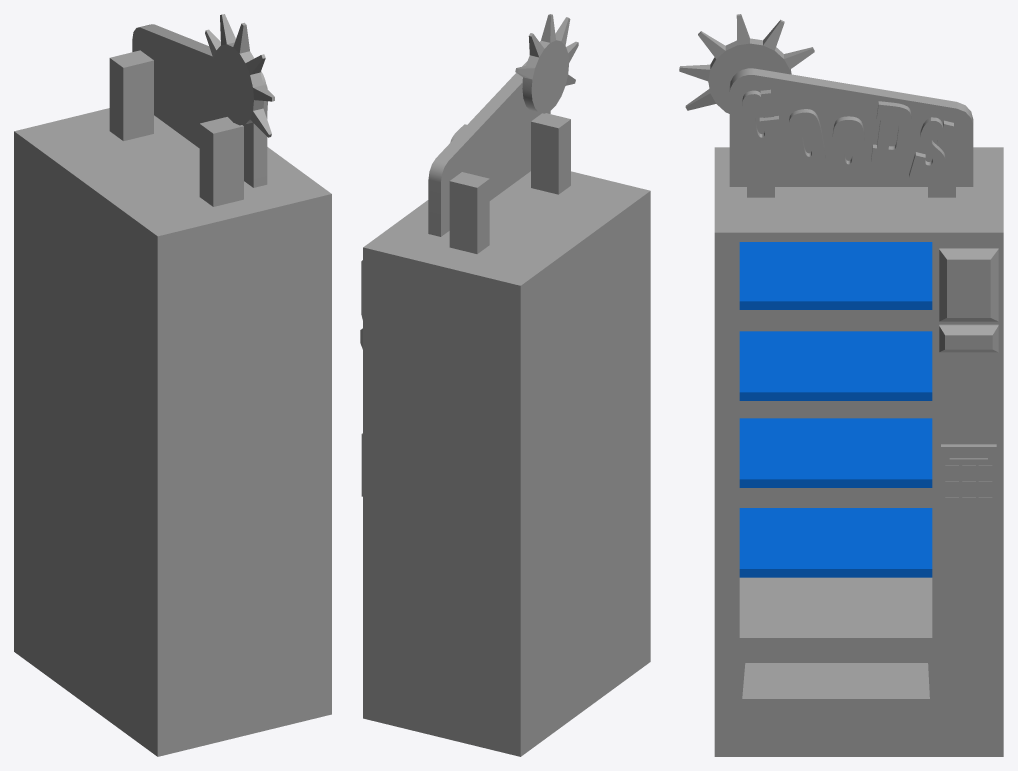
The model's file is goods.fbx.
3 renders of one model, left to right at view 1: azimuth 30°, elevation 25°; view 2: azimuth 150°, elevation 25°; view 3: azimuth 270°, elevation 25°, orthographic. The views are drawn at different scales.
Parts seen in each view (by area): view 1: polySurface31; view 2: polySurface31; view 3: polySurface31.
Part boxes in pixels (x1,y1,x2,y2): polySurface31: (14,14,331,756); polySurface31: (360,14,650,756); polySurface31: (679,14,1003,756).
Size of the model in its own units: 73.47 by 269 by 112.
